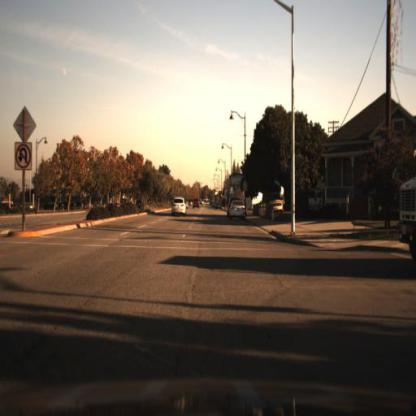car: (168, 190, 191, 221), (227, 198, 247, 225), (190, 195, 204, 214)
